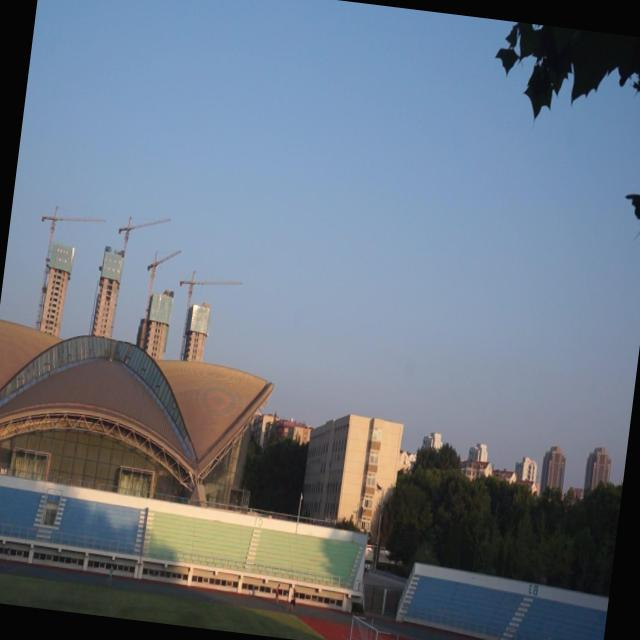drone: (371, 477, 385, 495)
